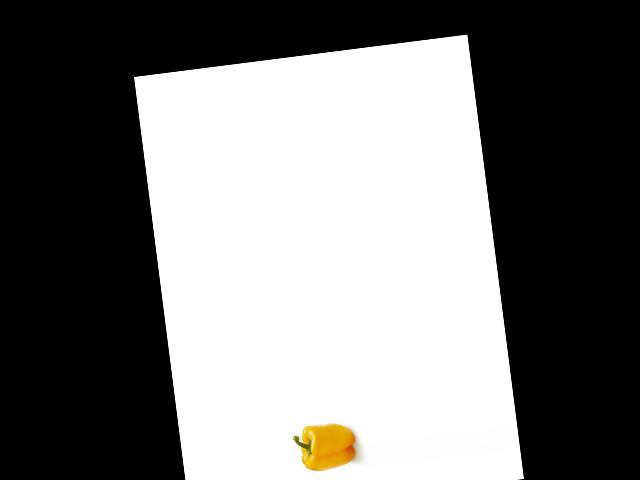bell_pepper: (288, 414, 358, 474)
